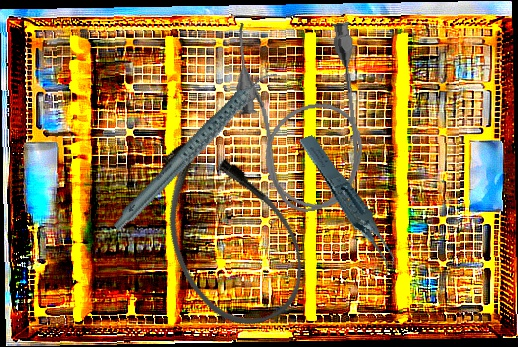Cannula: (134, 117, 323, 344), (226, 7, 376, 220)
Handpiece: (88, 68, 304, 233)
Tissue Forceps: (297, 123, 399, 287)
